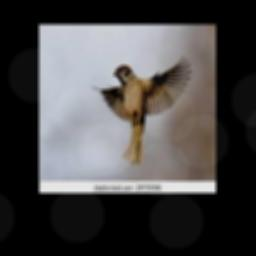Sparrow: (91, 55, 192, 165)
